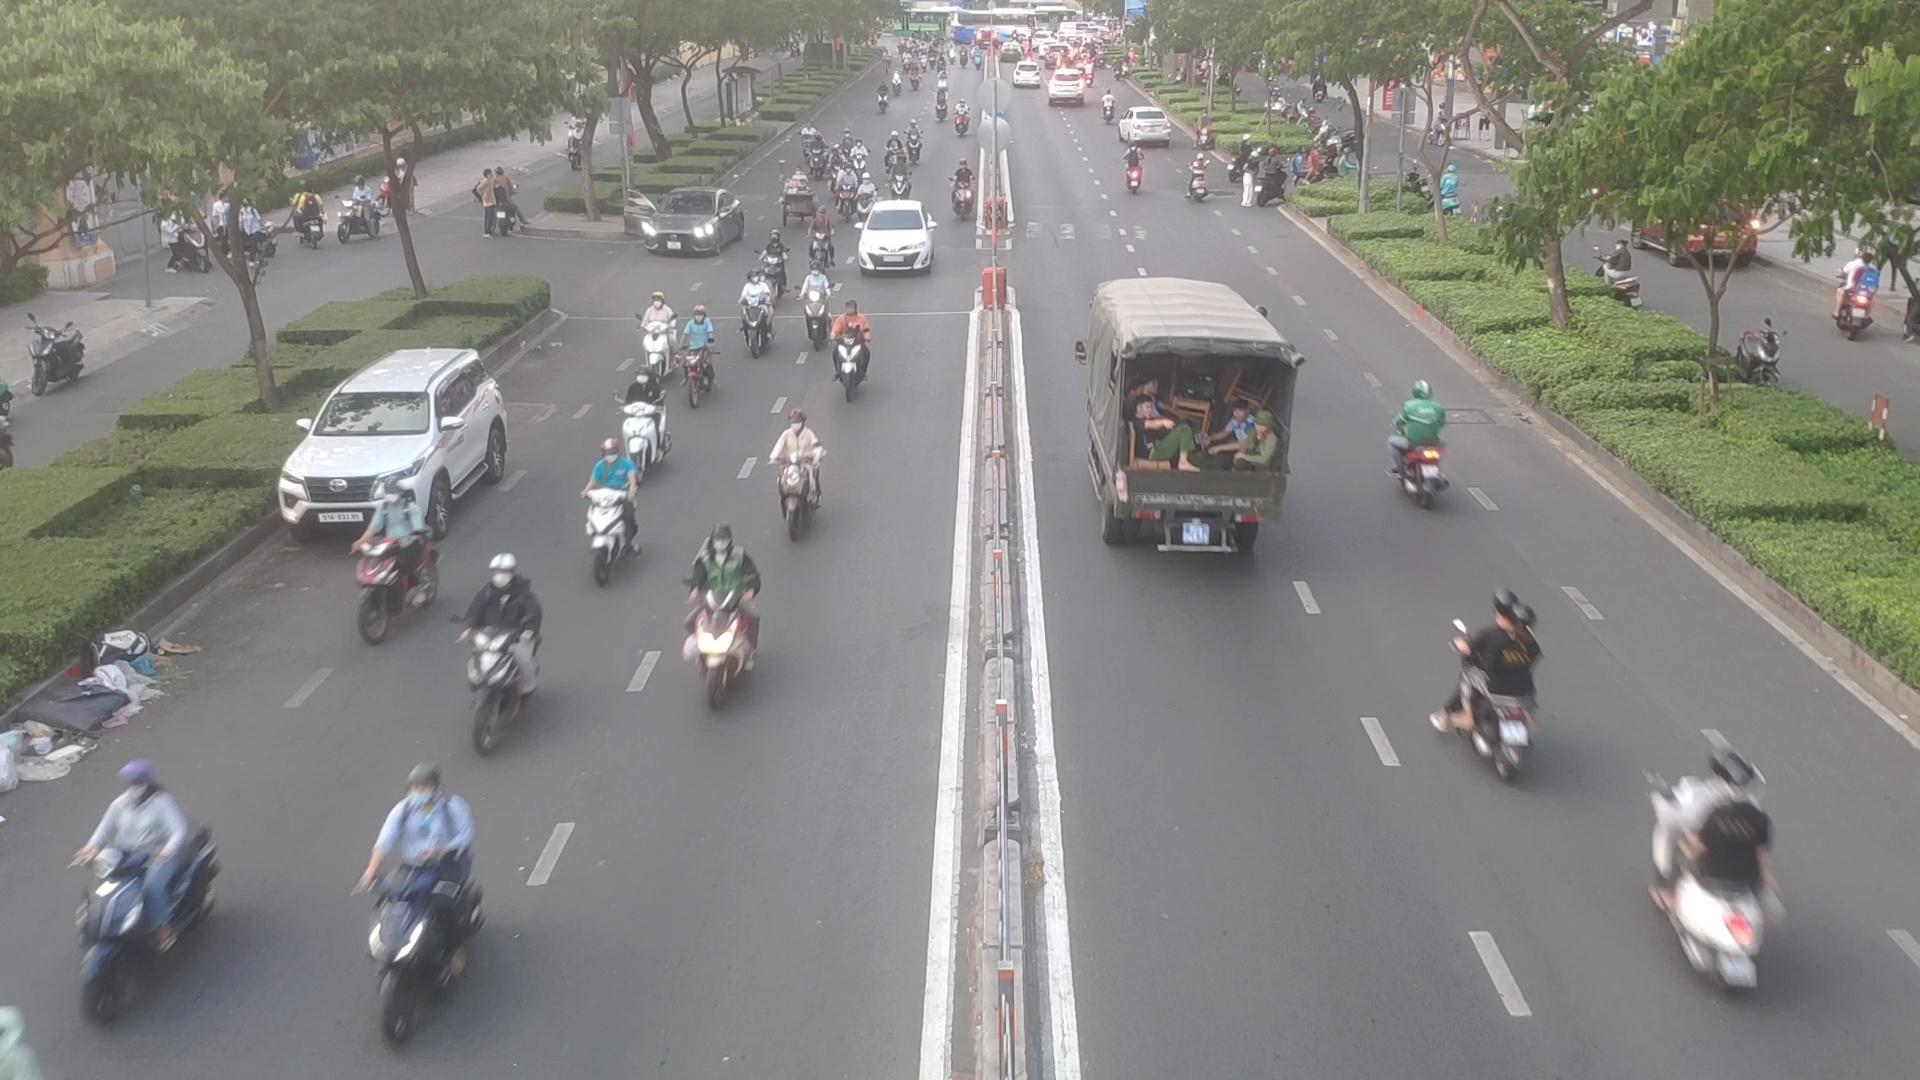car: (1080, 274, 1319, 562), (272, 310, 516, 535), (632, 190, 752, 261), (847, 200, 934, 273)
motorbike: (44, 760, 218, 1034), (347, 728, 489, 1060), (1636, 728, 1771, 1026), (1431, 576, 1534, 764), (1361, 359, 1472, 521), (334, 481, 434, 638), (472, 559, 537, 769), (686, 531, 760, 705), (765, 411, 837, 545), (574, 436, 637, 558), (615, 369, 676, 476), (682, 295, 715, 402), (638, 290, 673, 388), (738, 265, 771, 360), (832, 305, 865, 386), (799, 268, 831, 349), (807, 211, 836, 281), (949, 160, 976, 222), (1187, 148, 1211, 211), (1125, 142, 1149, 199), (758, 233, 781, 287), (855, 175, 877, 222), (886, 156, 909, 200), (806, 137, 827, 179), (827, 149, 847, 189), (909, 124, 924, 167), (848, 142, 866, 179), (836, 167, 853, 207), (794, 125, 814, 160), (887, 129, 901, 167)
